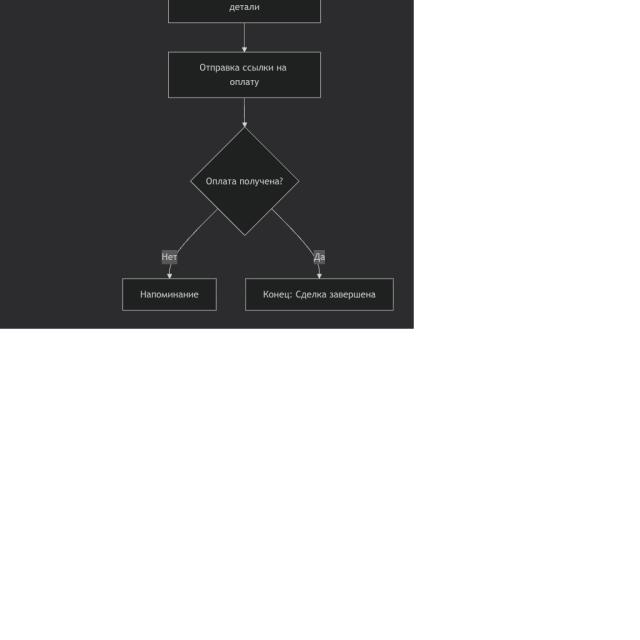arrow: (268, 209, 317, 256), (175, 207, 218, 254), (242, 24, 246, 52), (243, 99, 246, 126)
diamond: (190, 127, 300, 236)
rectangle: (169, 52, 321, 98), (245, 279, 393, 311), (123, 278, 216, 311)
text_region: (162, 250, 177, 264), (314, 250, 325, 265)
